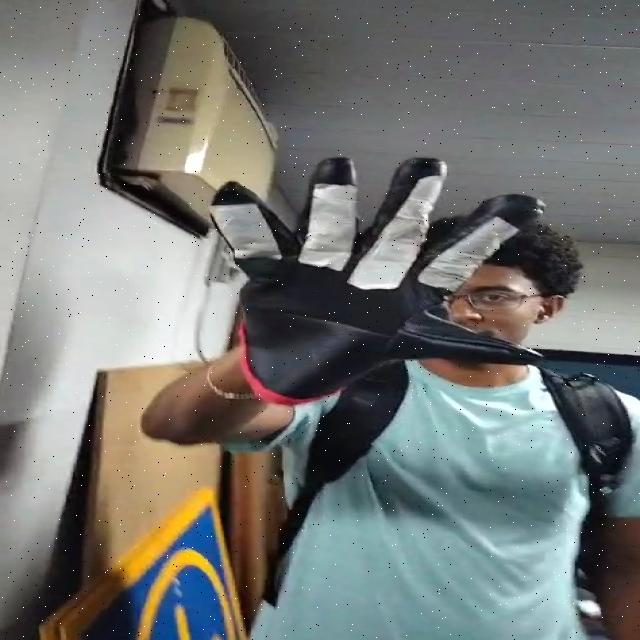Gloves: (197, 158, 538, 408)
